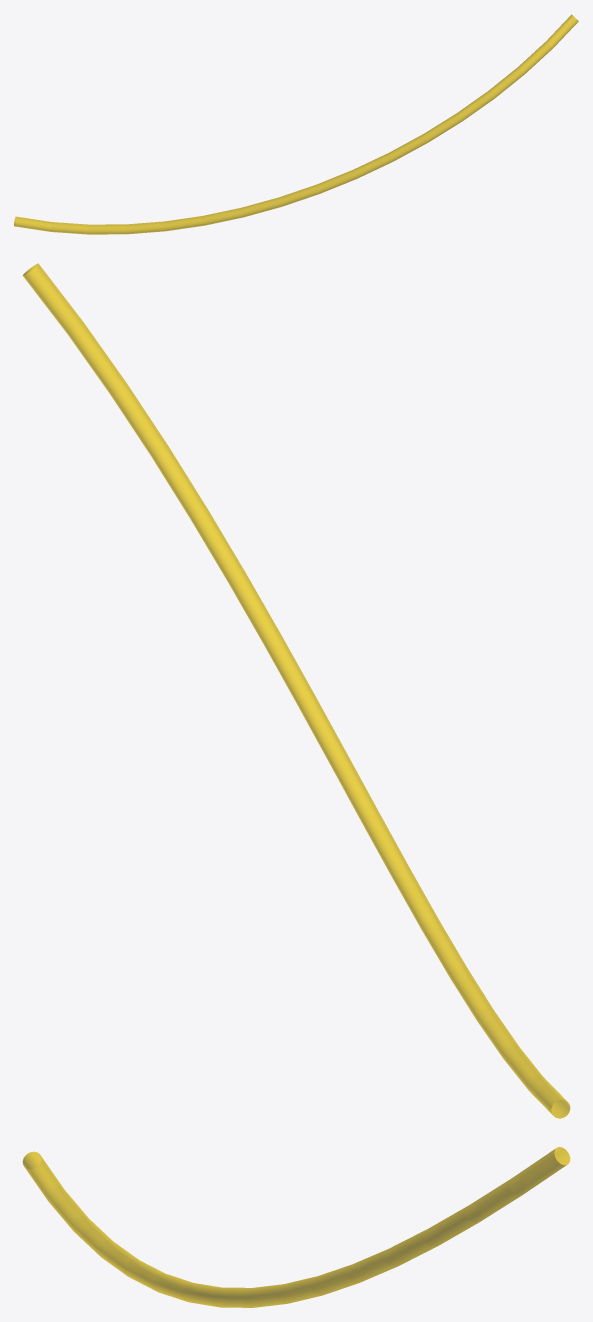
File: Event_17758602_track_66.fbx
3 views of the same model, one above another, from view 1: azimuth 30°, elevation 25°; view 2: azimuth 150°, elevation 25°; view 3: azimuth 330°, elevation 25° (orthographic). The views are drawn at different scales.
Visible parts, largest first — view 1: Model; view 2: Model; view 3: Model.
Part boxes in pixels (x1,y1,x2,y2): Model: (14, 14, 578, 234); Model: (22, 263, 570, 1118); Model: (22, 1147, 570, 1307).
Bounding box in the file's own units: 1.93 × 0.9748 × 1.21.
